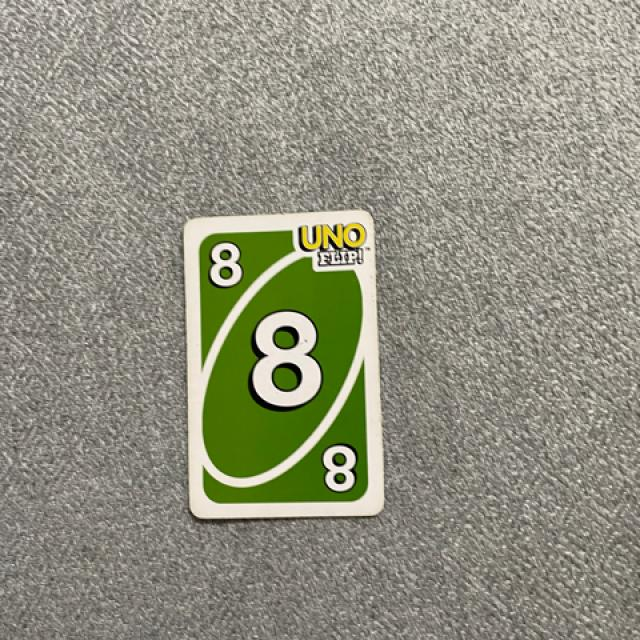lgreen-8: (195, 230, 256, 298)
